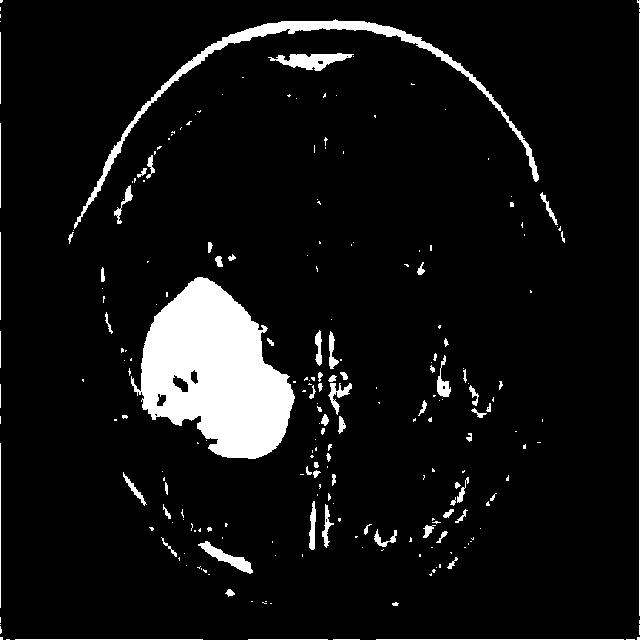Brain-Tumor: (126, 259, 300, 476)
